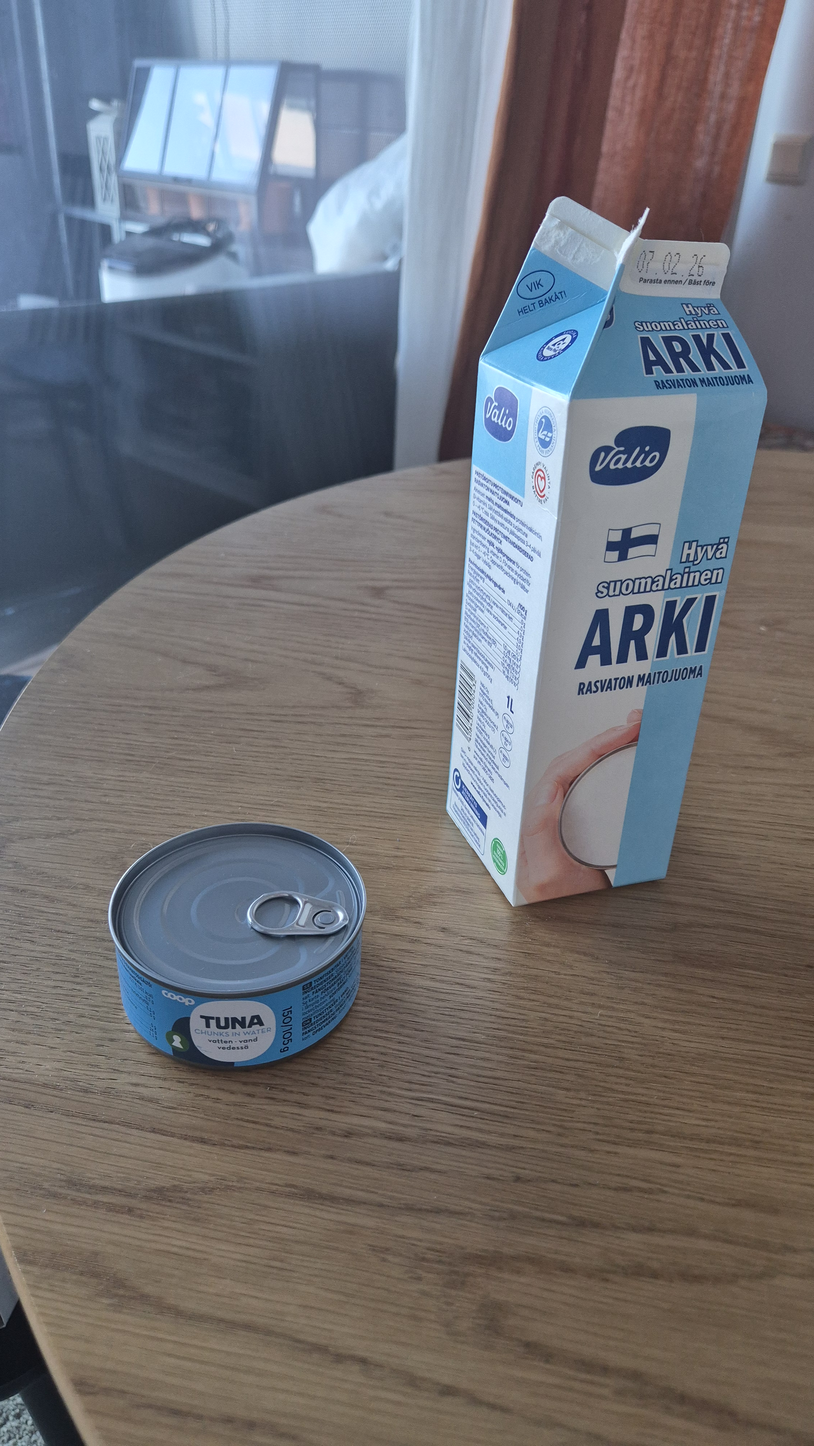Dryckeskartong: (447, 197, 767, 905)
Konservburk: (108, 822, 368, 1070)
